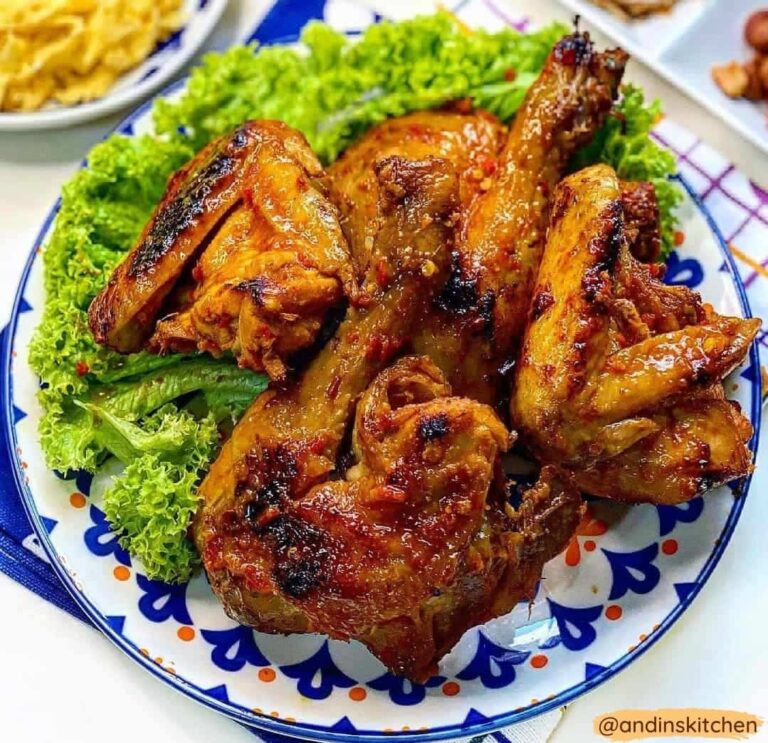Ayam: (239, 300, 539, 670), (482, 190, 731, 539), (102, 81, 370, 402)
